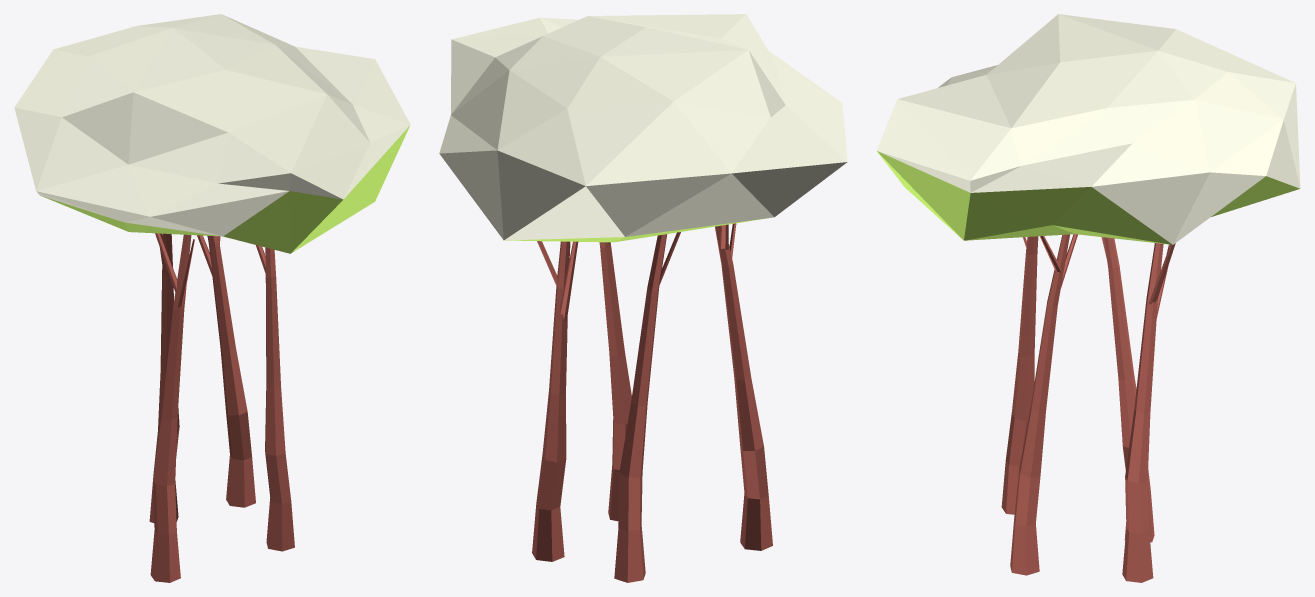
Rendered from Bush1_winter.FBX.
The picture shows the model from 3 angles, left to right: view 1: azimuth 30°, elevation 25°; view 2: azimuth 150°, elevation 25°; view 3: azimuth 270°, elevation 25°; orthographic projection. The views are drawn at different scales.
Parts seen in each view (by area): view 1: bush.002; view 2: bush.002; view 3: bush.002.
Boxes of the visible parts, <box> form: bush.002: <box>14,14,410,582</box>; bush.002: <box>439,14,847,582</box>; bush.002: <box>876,14,1300,582</box>.
Size of the model in its own units: 1.46 by 1.9 by 1.47.
